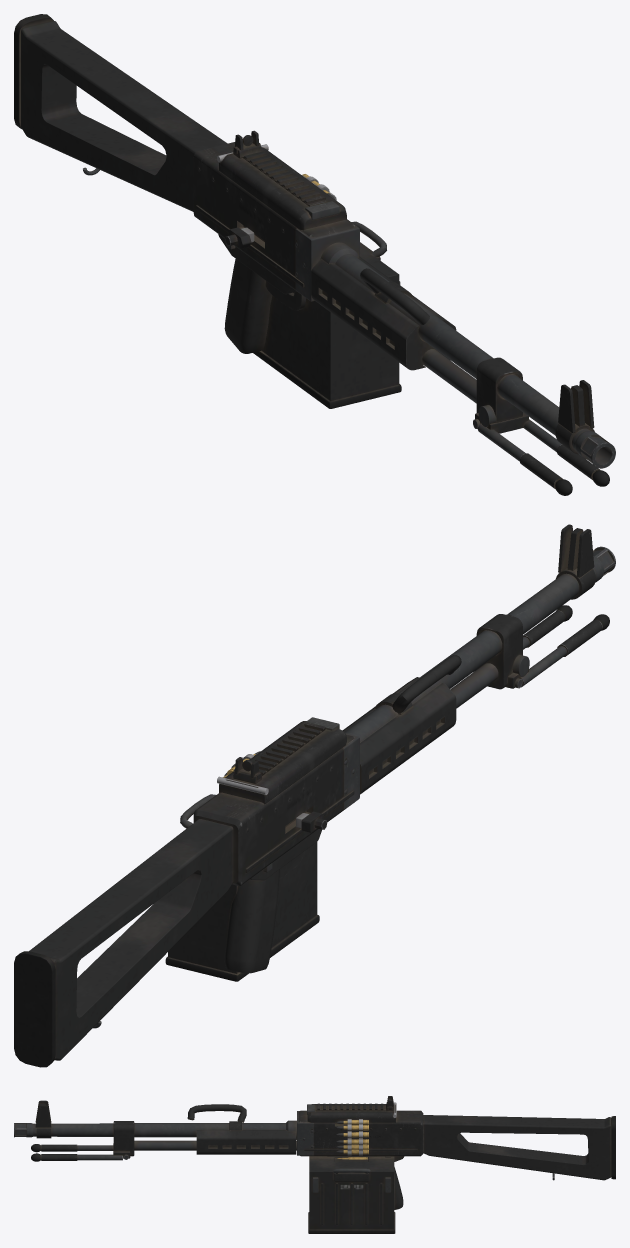
Rendered from lmg.glb.
3 views of the same model, one above another, from view 1: azimuth 30°, elevation 25°; view 2: azimuth 150°, elevation 25°; view 3: azimuth 270°, elevation 25° (orthographic). The views are drawn at different scales.
Parts seen in each view (by area): view 1: mesh_body, mesh_mag, mesh_feed_cover, mesh_bipod; view 2: mesh_body, mesh_mag, mesh_feed_cover, mesh_bipod; view 3: mesh_body, mesh_mag, mesh_feed_cover, mesh_bipod, mesh_belt.
Boxes of the visible parts, <box> form: mesh_body: <box>14,14,615,468</box>; mesh_mag: <box>253,221,401,408</box>; mesh_feed_cover: <box>217,130,346,230</box>; mesh_bipod: <box>473,412,609,495</box>; mesh_body: <box>14,524,615,1067</box>; mesh_mag: <box>165,794,319,981</box>; mesh_feed_cover: <box>217,717,346,804</box>; mesh_bipod: <box>473,605,609,688</box>; mesh_body: <box>14,1100,615,1209</box>; mesh_mag: <box>308,1156,395,1233</box>; mesh_feed_cover: <box>307,1096,396,1122</box>; mesh_bipod: <box>31,1143,130,1161</box>; mesh_belt: <box>336,1119,368,1155</box>.
Bounding box in the file's own units: 0.1488 × 0.226 × 1.06.
6 materials, 6 textured.
